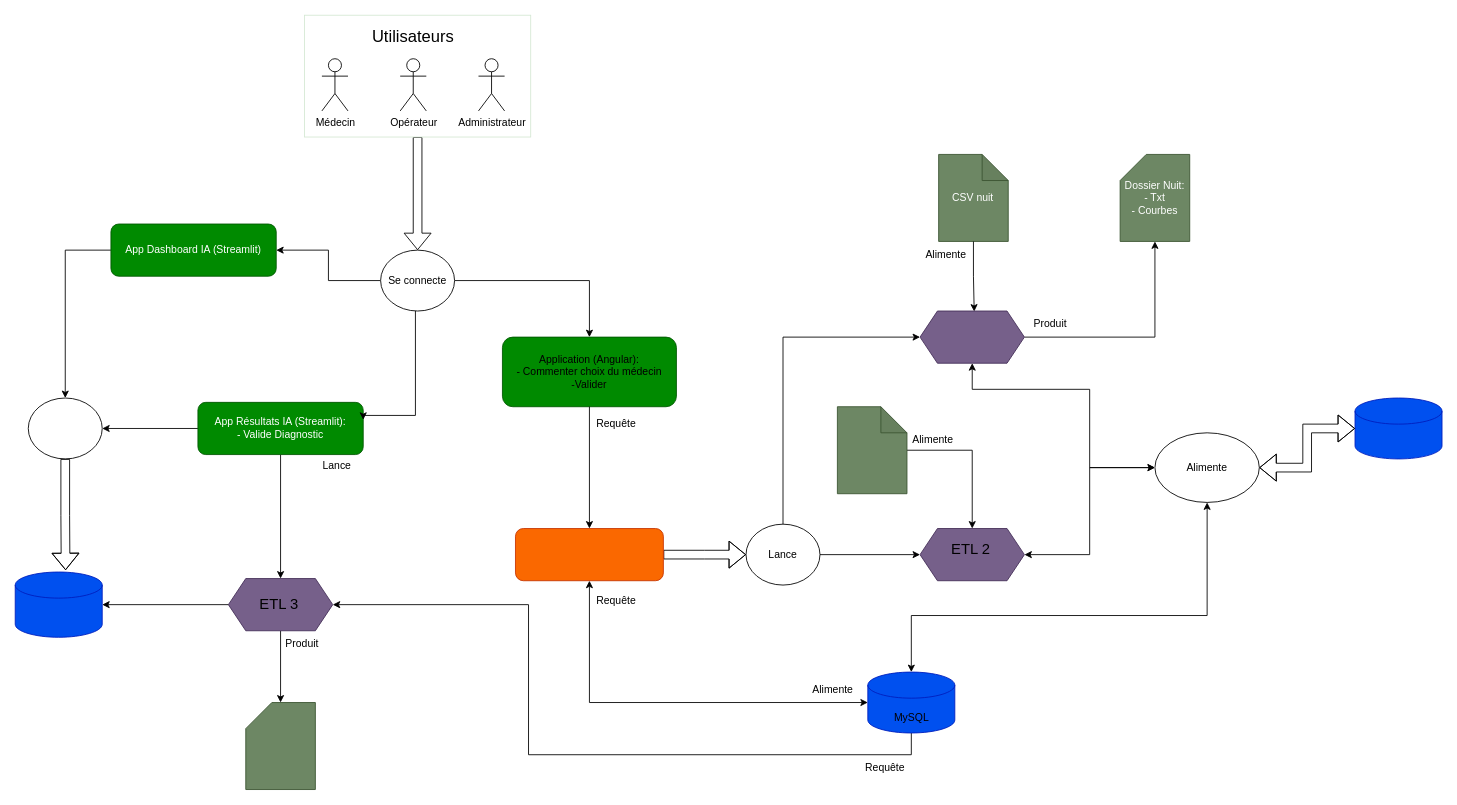
This 1457x805 diagram has some shape labels left out. The shapes that lost their labels are listed below. From the top down, each one's box as (x1, y1, x2, y2) in pixels, then its label:
(919, 310, 1024, 363): ETL 1
(27, 397, 102, 459): Se branche
(1354, 397, 1442, 459): Datalake
(837, 406, 907, 494): CSV suivi CPAP Jour
(515, 528, 663, 581): API (Express)
(14, 571, 102, 637): Base analytique
(245, 702, 315, 790): Dossier Patient (PDF)
